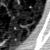node: (12, 26, 18, 31), (13, 38, 17, 42), (28, 6, 33, 9)
